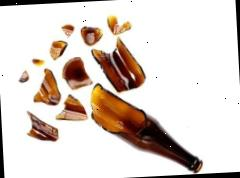glass: (12, 9, 203, 178)
